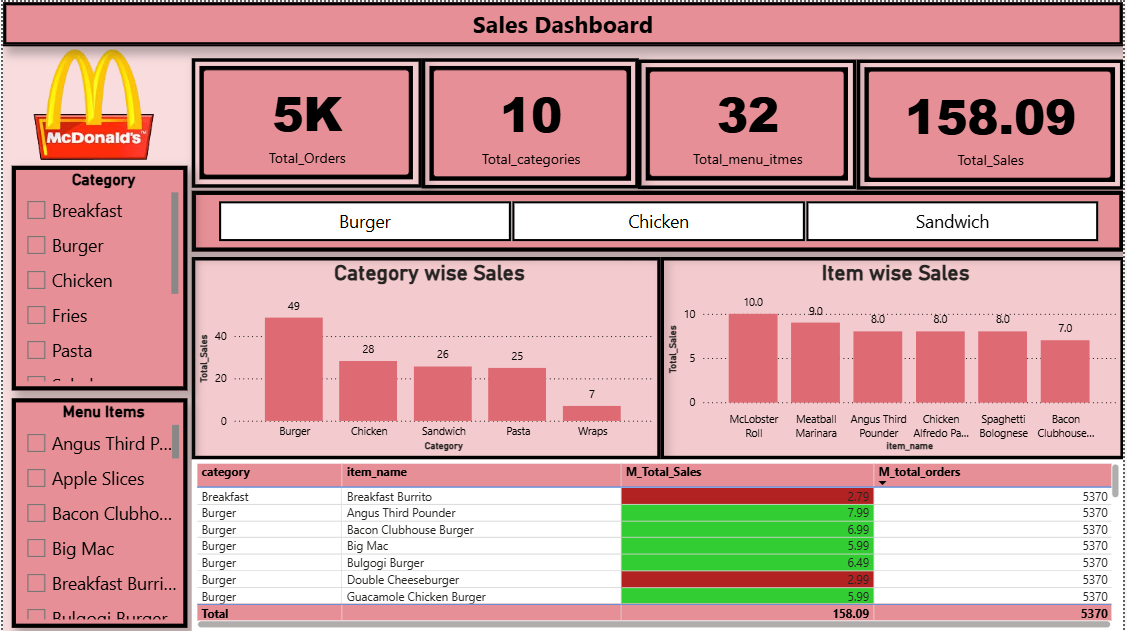

Layout of this report page (visuals, bound fields, positions):
{"tool":"powerbi","page":{"name":"Page 1","canvas":[1280,720],"ordinal":0},"visuals":[{"type":"cardVisual","fields":{"Data":["order_details (3).M_total_orders"]},"box":[215.2,64.8,262.9,148],"z":0},{"type":"cardVisual","fields":{"Data":["order_details (3).M_Total_categories"]},"box":[478.1,64.8,248.2,149.2],"z":1000},{"type":"cardVisual","fields":{"Data":["order_details (3).M_Total_menuitmes"]},"box":[726.4,66,249.5,148],"z":2000},{"type":"cardVisual","fields":{"Data":["order_details (3).M_Total_Sales"]},"box":[975.8,66,304.5,149.2],"z":3000},{"type":"slicer","fields":{"Values":["Table 1 (Sheet1).category"]},"box":[215.2,215.2,1065.1,69.7],"z":4000},{"type":"image","box":[10.1,7.9,187.1,215.3],"z":5000},{"type":"columnChart","title":"Category wise Sales","fields":{"Category":["Table 1 (Sheet1).category"],"Y":["order_details (3).M_Total_Sales"]},"box":[215.2,291,535.6,231.1],"z":6000},{"type":"columnChart","title":"Item wise Sales","fields":{"Y":["order_details (3).M_Total_Sales"],"Category":["Table 1 (Sheet1).item_name"]},"box":[750.8,291,529.5,231.1],"z":7000},{"type":"slicer","title":"Category","fields":{"Values":["Table 1 (Sheet1).category"]},"box":[9.8,187.1,200.5,256.8],"z":8000},{"type":"slicer","title":"Menu Items","fields":{"Values":["Table 1 (Sheet1).item_name"]},"box":[10.1,453.1,200.6,262.6],"z":9000},{"type":"shape","title":"Sales Das","box":[0,0,1280.3,50.1],"z":10001},{"type":"tableEx","fields":{"Values":["Table 1 (Sheet1).category","Table 1 (Sheet1).item_name","order_details (3).M_Total_Sales","order_details (3).M_total_orders"]},"box":[215.2,522.1,1065.1,198.1],"z":10002}]}

Visuals, with their boxes in screenshot pixels (x1, y1, x2, y2), scaled from the page's 1280x720 canvas onto the 1127x631 screenshot:
cardVisual - order_details (3).M_total_orders: select_region(189, 57, 421, 186)
cardVisual - order_details (3).M_Total_categories: select_region(421, 57, 639, 188)
cardVisual - order_details (3).M_Total_menuitmes: select_region(640, 58, 859, 188)
cardVisual - order_details (3).M_Total_Sales: select_region(859, 58, 1126, 189)
slicer - Table 1 (Sheet1).category: select_region(189, 189, 1126, 250)
image: select_region(9, 7, 174, 196)
"Category wise Sales" columnChart: select_region(189, 255, 661, 458)
"Item wise Sales" columnChart: select_region(661, 255, 1126, 458)
"Category" slicer: select_region(9, 164, 185, 389)
"Menu Items" slicer: select_region(9, 397, 186, 627)
"Sales Das" shape: select_region(0, 0, 1126, 44)
tableEx - Table 1 (Sheet1).category x Table 1 (Sheet1).item_name: select_region(189, 458, 1126, 630)
